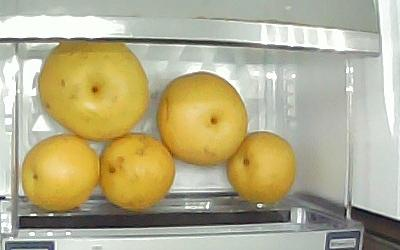pear: (39, 40, 151, 142), (158, 72, 248, 166), (21, 135, 100, 212), (100, 134, 176, 213), (228, 132, 296, 206)
